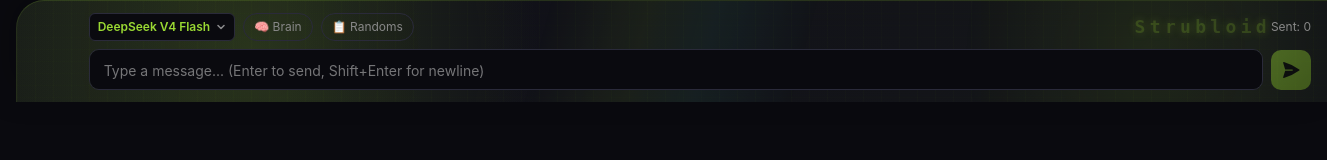
Test case: ChatComposer › recalls previous messages with ArrowUp
Click the text box with placeholder "Type a message... (Enter to send, Shift+Enter for newline)" at x=676, y=70, box [89,49,1263,90]
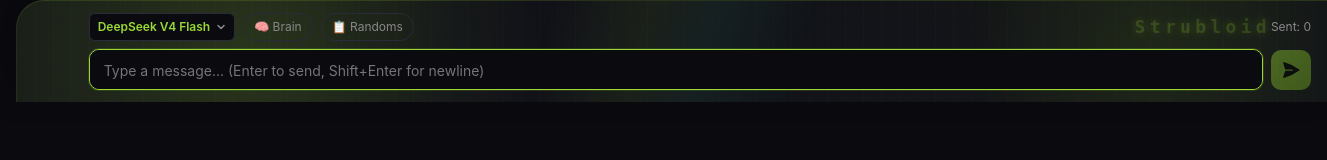
Press Arrowup
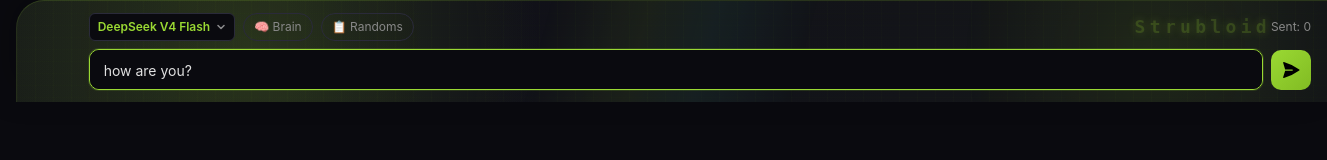
Check: the text box with placeholder "Type a message... (Enter to send, Shift+Enter for newline)" holds "how are you?", box [89,49,1263,90]
